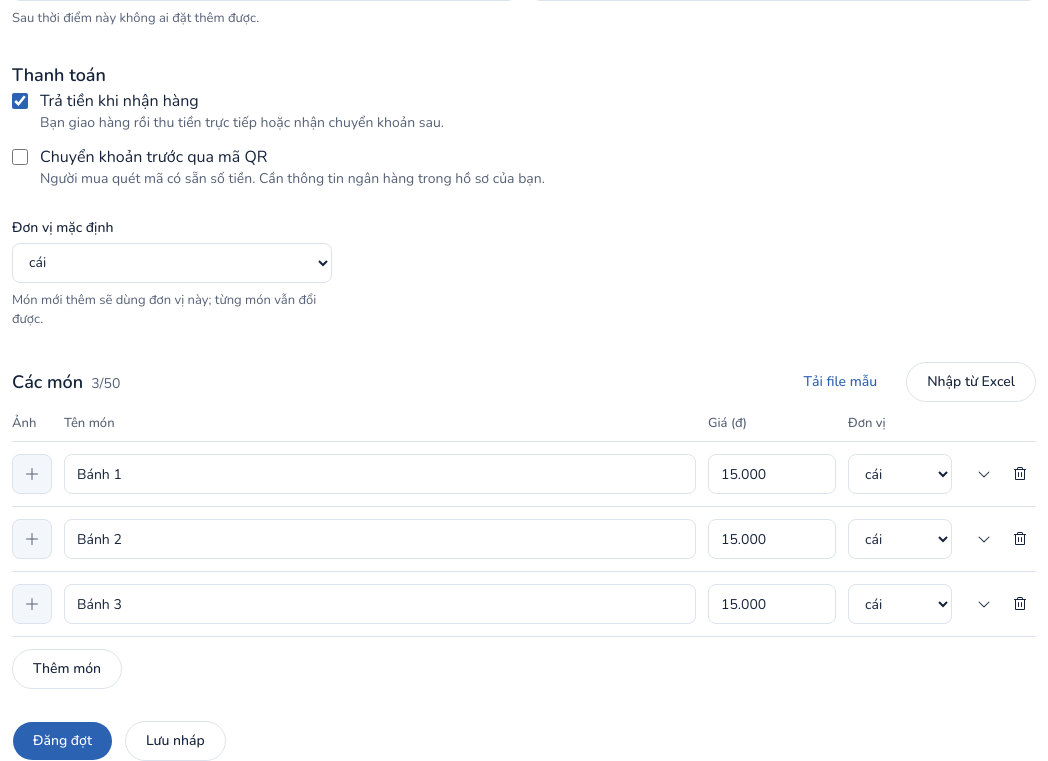
CampaignForm › a new round › removes a product and renumbers the rest
The image size is (1048, 761).
(page scrolled)
Click the button named "Xóa món 2" at (1020, 539), box x1=1004 y1=523 x2=1036 y2=555
(page scrolled)
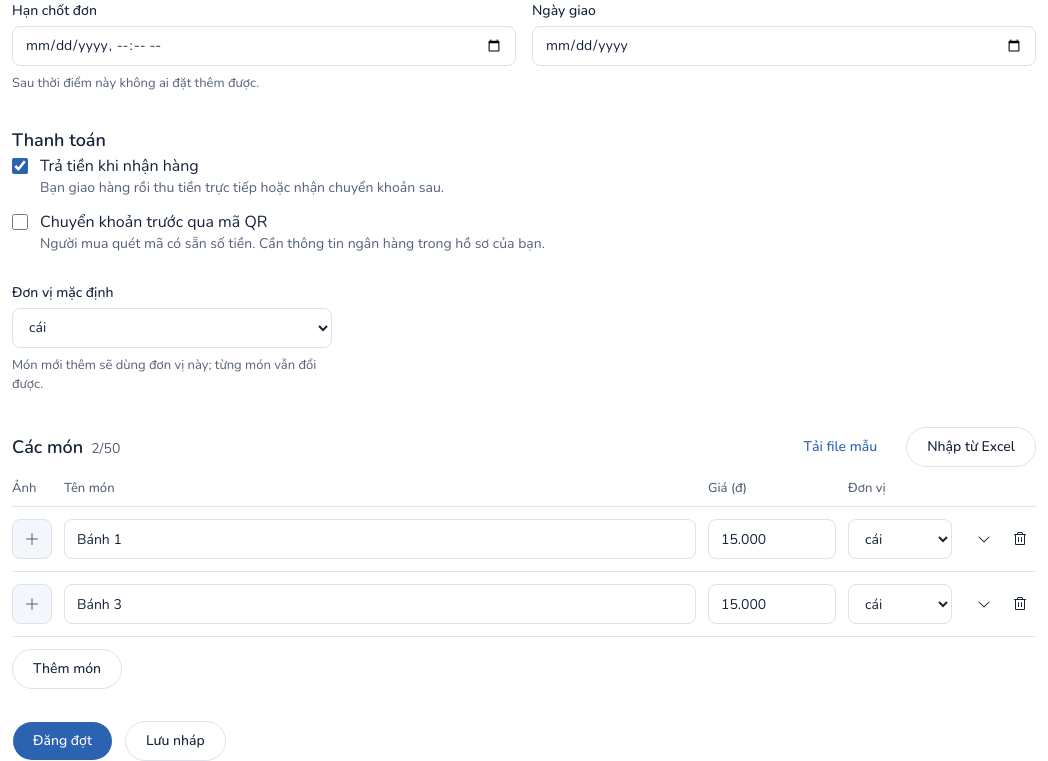
Check: the 1st field named "Tên món 1" holds "Bánh 1", box x1=64 y1=519 x2=696 y2=559
Check: the text "2/50" is shown, box x1=91 y1=438 x2=120 y2=458
